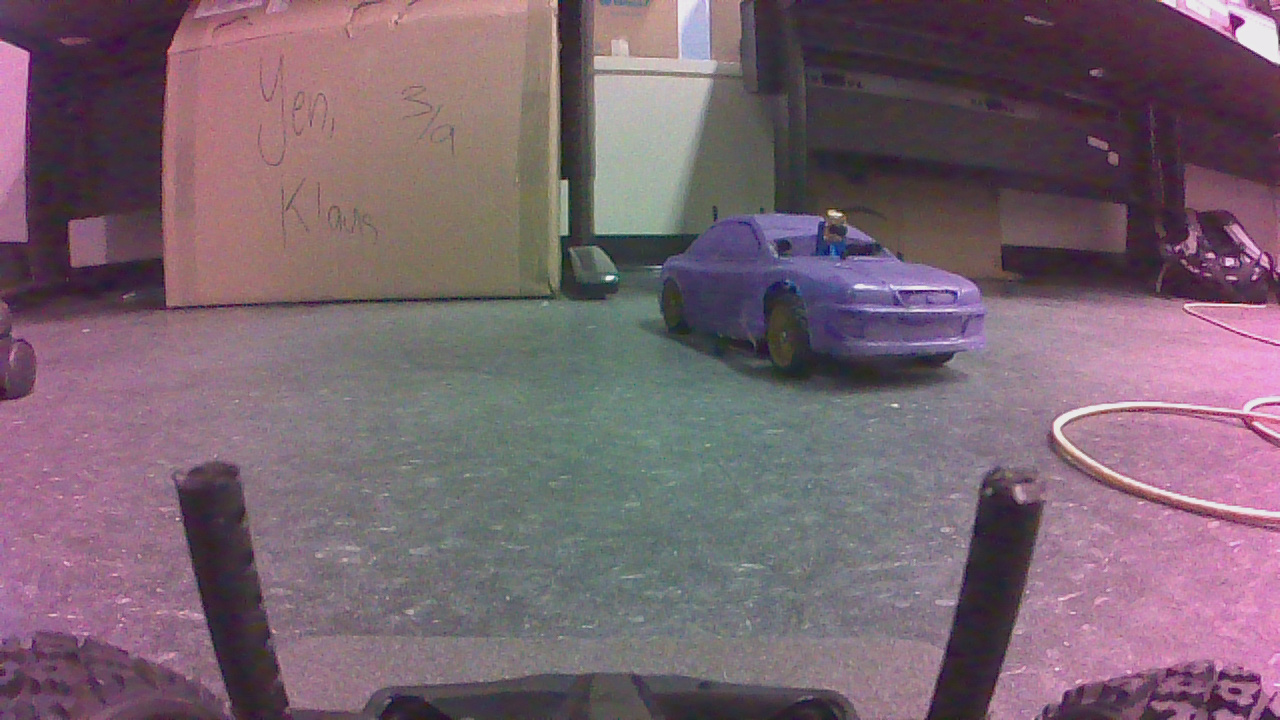opponent: (661, 209, 993, 384)
